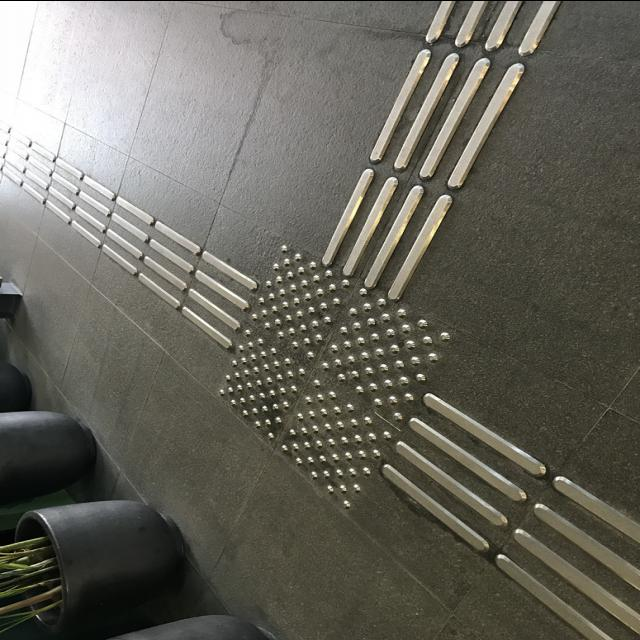tactile-guide-path: (322, 0, 560, 298), (378, 392, 640, 640), (217, 244, 448, 506), (0, 125, 258, 354)
